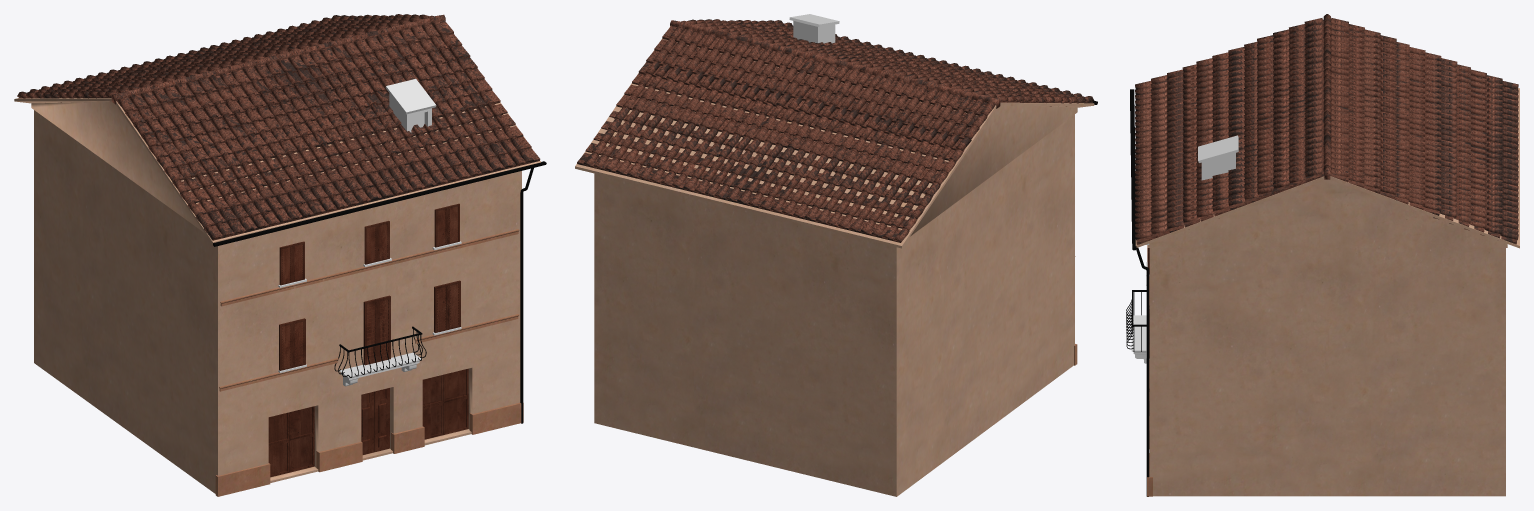
The model's file is housebig.fbx.
3 renders of one model, left to right at view 1: azimuth 30°, elevation 25°; view 2: azimuth 150°, elevation 25°; view 3: azimuth 270°, elevation 25°, orthographic. The views are drawn at different scales.
Visible parts, largest first — view 1: Paredes, Telhas, Janelas, Rodapé_Paredes, Porta_3, Porta_1, Rebordos, Calhas, Porta_2, Chaminé, Pedra_Varanda, Ferro_Varanda; view 2: Paredes, Telhas, Chaminé; view 3: Paredes, Telhas, Calhas, Chaminé, Pedra_Varanda, Ferro_Varanda.
Boxes of the visible parts, left/top/right/bottom form: Paredes: left=14, top=98, right=540, bottom=493; Telhas: left=17, top=14, right=540, bottom=240; Janelas: left=279, top=203, right=460, bottom=370; Rodapé_Paredes: left=215, top=402, right=523, bottom=496; Porta_3: left=422, top=368, right=468, bottom=439; Porta_1: left=268, top=406, right=314, bottom=477; Rebordos: left=219, top=229, right=519, bottom=391; Calhas: left=213, top=161, right=546, bottom=423; Porta_2: left=361, top=388, right=389, bottom=454; Chaminé: left=385, top=79, right=436, bottom=132; Pedra_Varanda: left=339, top=352, right=422, bottom=386; Ferro_Varanda: left=334, top=326, right=426, bottom=377; Paredes: left=575, top=26, right=1094, bottom=496; Telhas: left=577, top=19, right=1094, bottom=242; Chaminé: left=789, top=14, right=839, bottom=43; Paredes: left=1135, top=88, right=1519, bottom=496; Telhas: left=1135, top=14, right=1518, bottom=244; Calhas: left=1130, top=89, right=1149, bottom=496; Chaminé: left=1198, top=135, right=1238, bottom=180; Pedra_Varanda: left=1131, top=315, right=1146, bottom=363; Ferro_Varanda: left=1126, top=290, right=1146, bottom=351.
Bounding box in the file's own units: 205 × 199 × 214.
